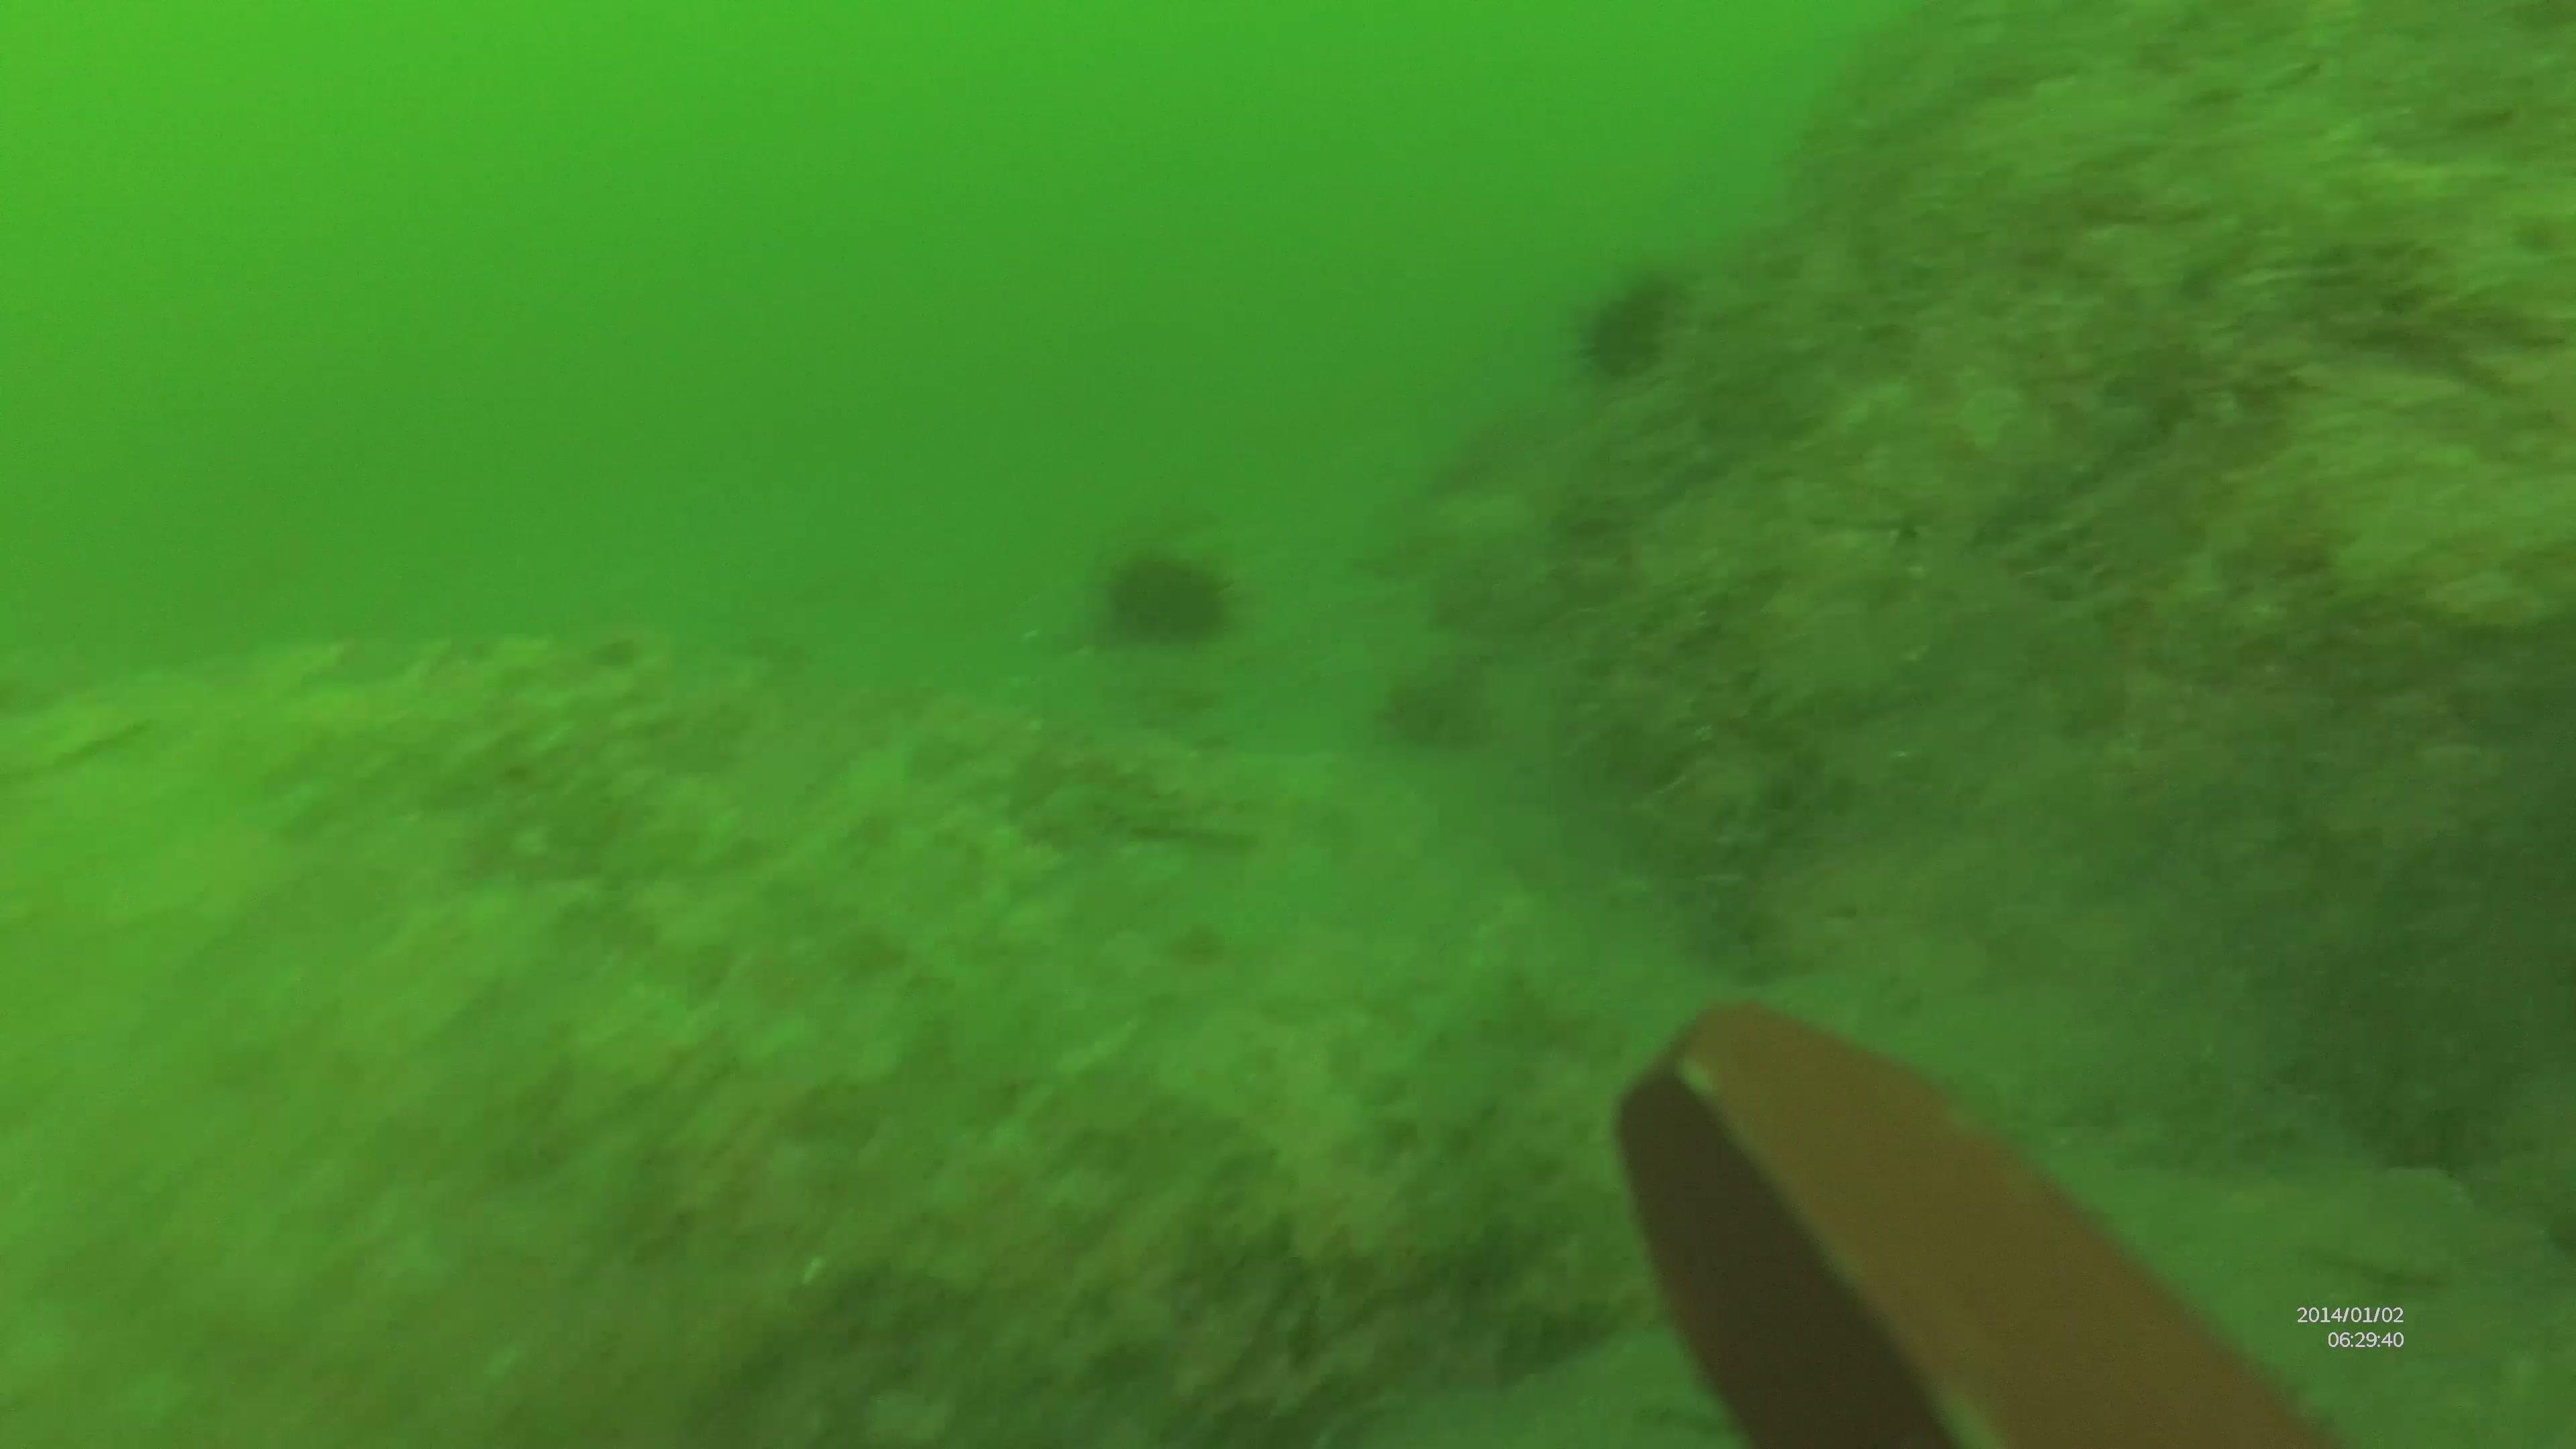echinus: (1580, 257, 1697, 375), (1099, 556, 1230, 651)
